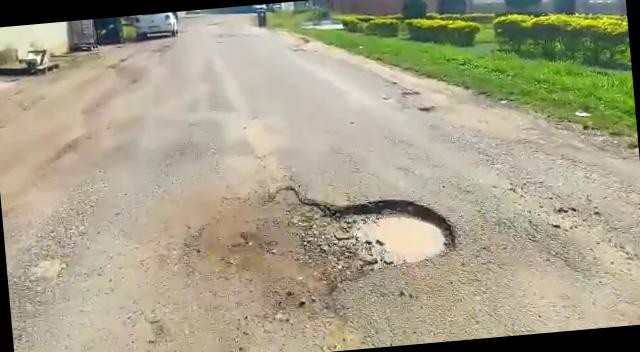pothole: (184, 172, 468, 306)
